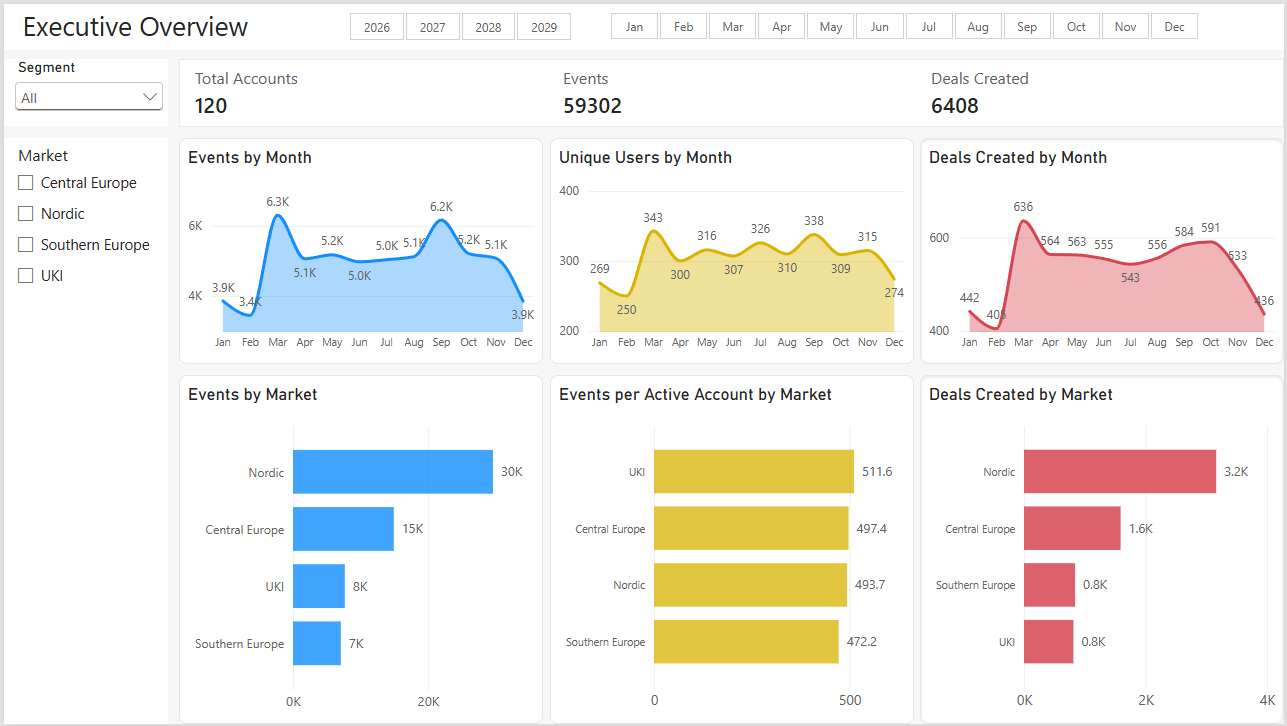

What the dashboard file says about the page in this screenshot:
{"tool":"powerbi","page":{"name":"Executive Overview","canvas":[1280,720],"ordinal":0},"visuals":[{"type":"textbox","box":[0,0,1280.2,45.8],"z":0},{"type":"slicer","fields":{"Values":["dim_date.Year"]},"box":[325,7,261,31],"z":1000},{"type":"slicer","fields":{"Values":["dim_date.Month (Short)"]},"box":[585.9,6.5,627.2,30.4],"z":2000},{"type":"slicer","fields":{"Values":["gold_dim_accounts.Segment"]},"box":[0,55.5,164,67],"z":3000},{"type":"slicer","fields":{"Values":["gold_dim_accounts.Market"]},"box":[0,133.7,164.1,585.9],"z":4000},{"type":"cardVisual","fields":{"Data":["_Measures.Total Accounts","_Measures.Events","_Measures.Deals Created"]},"box":[175,55.4,1105.4,67.4],"z":5000},{"type":"lineChart","title":"Events by Month","fields":{"Category":["dim_date.Month (Short)"],"Y":["_Measures.Events"]},"box":[175,133.7,364.1,226.1],"z":6000},{"type":"lineChart","title":"Unique Users by Month","fields":{"Category":["dim_date.Month (Short)"],"Y":["_Measures.Unique Users"]},"box":[545.7,133.7,364.1,226.1],"z":7000},{"type":"lineChart","title":"Deals Created by Month","fields":{"Category":["dim_date.Month (Short)"],"Y":["_Measures.Deals Created"]},"box":[916.3,133.7,364.1,226.1],"z":8000},{"type":"clusteredBarChart","title":"Events by Market","fields":{"Category":["gold_dim_accounts.Market"],"Y":["_Measures.Events"]},"box":[175,370.7,364.1,348.9],"z":9000},{"type":"clusteredBarChart","title":"Events per Active Account by Market","fields":{"Category":["gold_dim_accounts.Market"],"Y":["_Measures.Events per Active Account"]},"box":[545.7,370.7,364.1,348.9],"z":10000},{"type":"clusteredBarChart","fields":{"Category":["gold_dim_accounts.Market"],"Y":["_Measures.Deals Created"]},"box":[916.3,370.7,364.1,348.9],"z":11000}]}

Visuals, with their boxes in screenshot pixels (x1, y1, x2, y2), scaled from the page's 1280x720 canvas onto the 1287x726 screenshot:
textbox: [x1=0, y1=0, x2=1286, y2=46]
slicer - dim_date.Year: [x1=327, y1=7, x2=589, y2=38]
slicer - dim_date.Month (Short): [x1=589, y1=7, x2=1220, y2=37]
slicer - gold_dim_accounts.Segment: [x1=0, y1=56, x2=165, y2=124]
slicer - gold_dim_accounts.Market: [x1=0, y1=135, x2=165, y2=725]
cardVisual - _Measures.Total Accounts x _Measures.Events: [x1=176, y1=56, x2=1286, y2=124]
"Events by Month" lineChart: [x1=176, y1=135, x2=542, y2=363]
"Unique Users by Month" lineChart: [x1=549, y1=135, x2=915, y2=363]
"Deals Created by Month" lineChart: [x1=921, y1=135, x2=1286, y2=363]
"Events by Market" clusteredBarChart: [x1=176, y1=374, x2=542, y2=725]
"Events per Active Account by Market" clusteredBarChart: [x1=549, y1=374, x2=915, y2=725]
clusteredBarChart - gold_dim_accounts.Market x _Measures.Deals Created: [x1=921, y1=374, x2=1286, y2=725]
